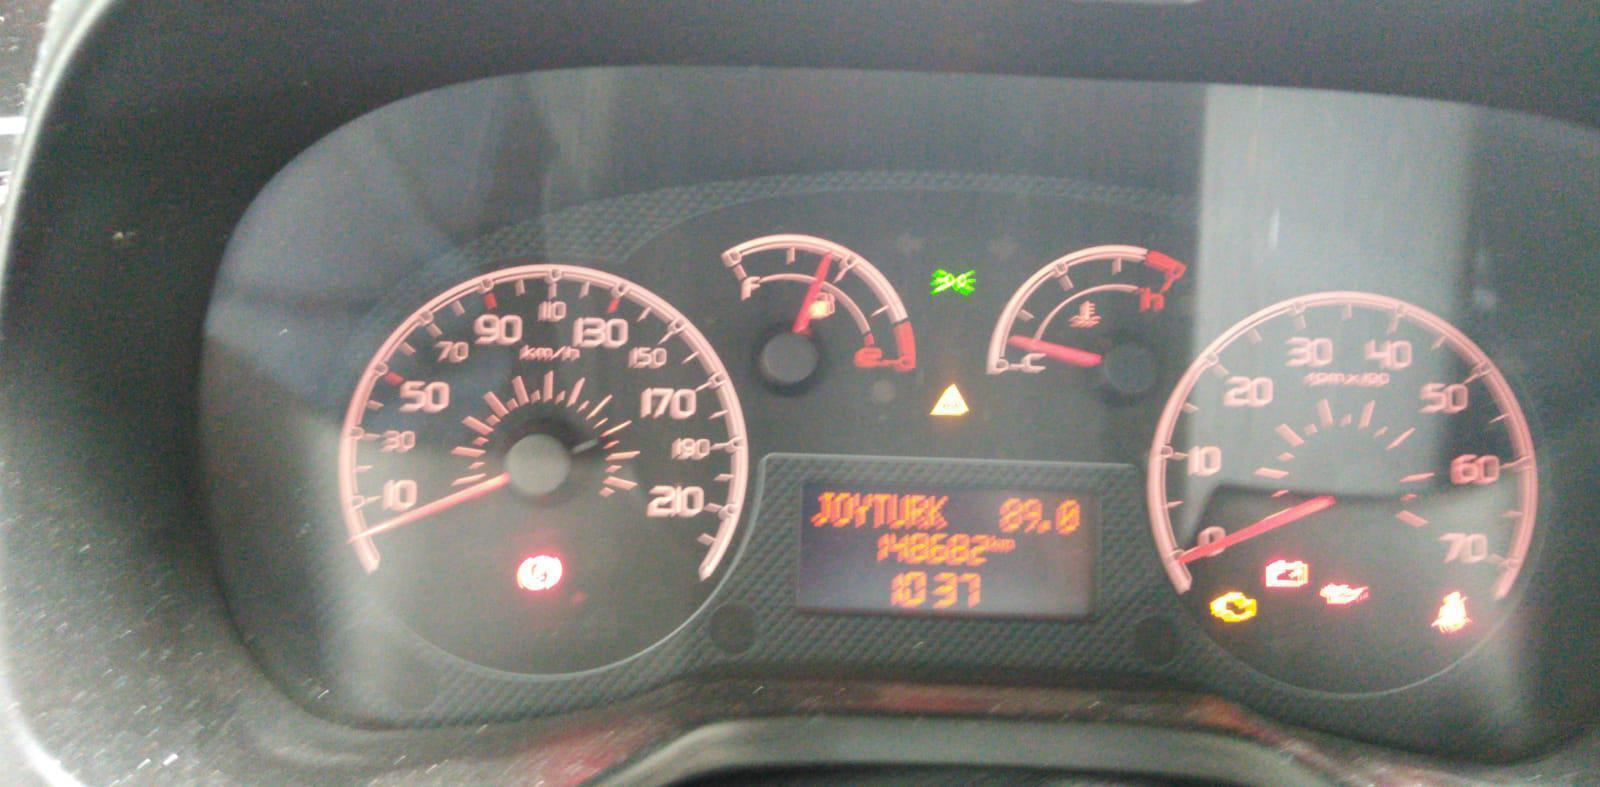,: (1036, 518, 1050, 534)
0: (1054, 499, 1081, 535), (902, 570, 928, 606)
1: (890, 572, 902, 605), (876, 533, 888, 560)
2: (969, 534, 989, 565)
3: (933, 571, 958, 610)
4: (888, 533, 909, 561)
6: (930, 531, 949, 562)
7: (958, 572, 982, 607)
8: (997, 497, 1022, 531), (906, 531, 929, 563), (950, 533, 968, 564)
9: (1022, 497, 1043, 533)
X: (886, 493, 910, 529), (830, 491, 854, 527), (924, 494, 948, 530), (811, 490, 834, 527), (905, 494, 928, 529), (852, 492, 872, 527), (872, 493, 890, 528), (1001, 537, 1016, 551), (990, 534, 1001, 551)
odometer: (789, 472, 1112, 626)
